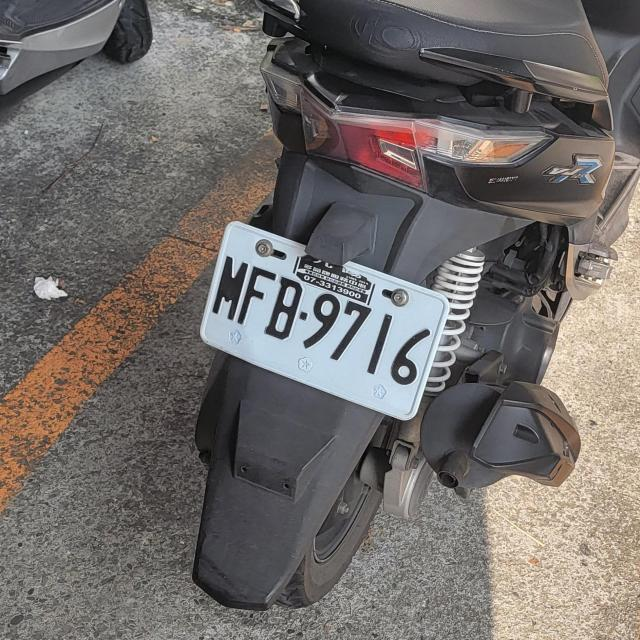W: (188, 218, 457, 418)
